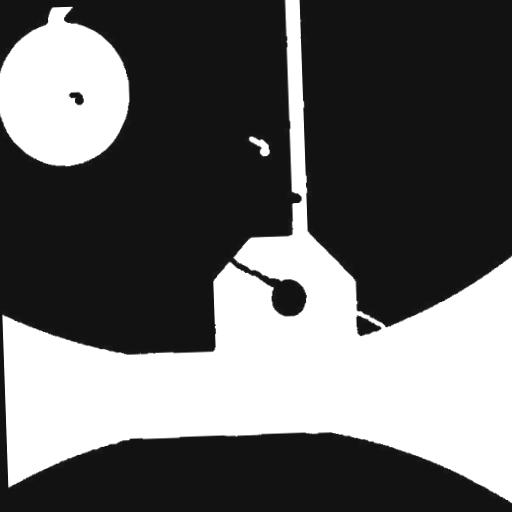copper: (60, 83, 90, 112)
open: (338, 299, 396, 343)
pin-hole: (240, 128, 276, 164)
short: (218, 247, 289, 297)
spur: (276, 181, 309, 212)
